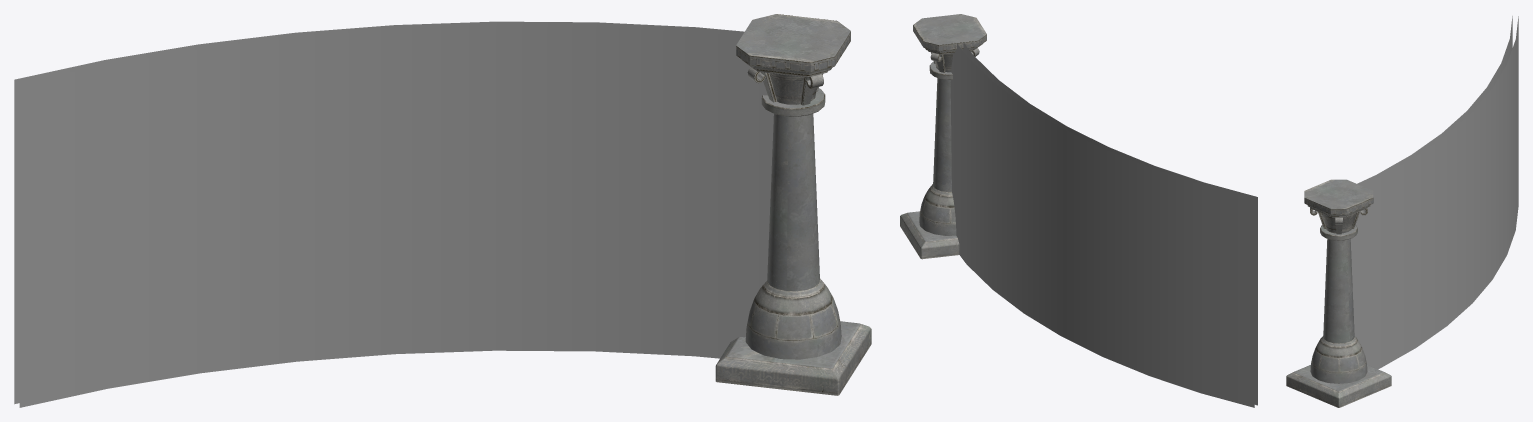
Rendered from FBX_Wall_Corner_Half.fbx.
The picture shows the model from 3 angles, left to right: view 1: azimuth 30°, elevation 25°; view 2: azimuth 150°, elevation 25°; view 3: azimuth 270°, elevation 25°; orthographic projection. The views are drawn at different scales.
Visible parts, largest first — view 1: Wall_Corner_Front, Pillar, BaseSphere, Base, Wall_Corner_Back, Top, CenterDecor, RingDecor; view 2: Wall_Corner_Back, Wall_Corner_Front, Top, Pillar, Base, BaseSphere; view 3: Wall_Corner_Back, Pillar, Base, BaseSphere, Top, Wall_Corner_Front, CenterDecor, RingDecor.
Part boxes in pixels (left/top/right/bottom): Wall_Corner_Front: left=19, top=26, right=773, bottom=407; Pillar: left=767, top=114, right=819, bottom=291; BaseSphere: left=745, top=278, right=841, bottom=359; Base: left=715, top=321, right=871, bottom=395; Wall_Corner_Back: left=14, top=21, right=744, bottom=404; Top: left=736, top=14, right=850, bottom=77; CenterDecor: left=769, top=73, right=822, bottom=104; RingDecor: left=761, top=88, right=825, bottom=116; Wall_Corner_Back: left=950, top=43, right=1254, bottom=407; Wall_Corner_Front: left=962, top=43, right=1257, bottom=405; Top: left=913, top=14, right=986, bottom=54; Pillar: left=933, top=78, right=951, bottom=191; Base: left=900, top=211, right=959, bottom=259; BaseSphere: left=919, top=184, right=956, bottom=235; Wall_Corner_Back: left=1350, top=16, right=1518, bottom=369; Pillar: left=1323, top=239, right=1354, bottom=343; Base: left=1286, top=365, right=1391, bottom=407; BaseSphere: left=1310, top=336, right=1367, bottom=383; Top: left=1304, top=179, right=1373, bottom=217; Wall_Corner_Front: left=1357, top=16, right=1512, bottom=185; CenterDecor: left=1321, top=213, right=1356, bottom=233; RingDecor: left=1320, top=225, right=1357, bottom=240.
Bounding box in the file's own units: 794 × 350 × 385.
Materials: 2 (1 with a texture image).
